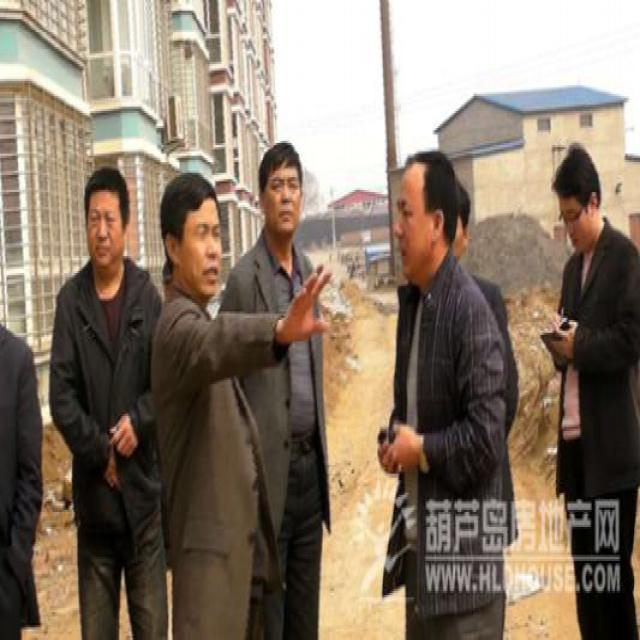head: (394, 142, 465, 289), (157, 163, 228, 298), (82, 159, 135, 272), (555, 142, 603, 255), (259, 140, 307, 244)
person: (363, 138, 530, 633), (133, 164, 271, 632), (45, 157, 176, 640), (222, 136, 349, 634), (530, 132, 640, 630)
